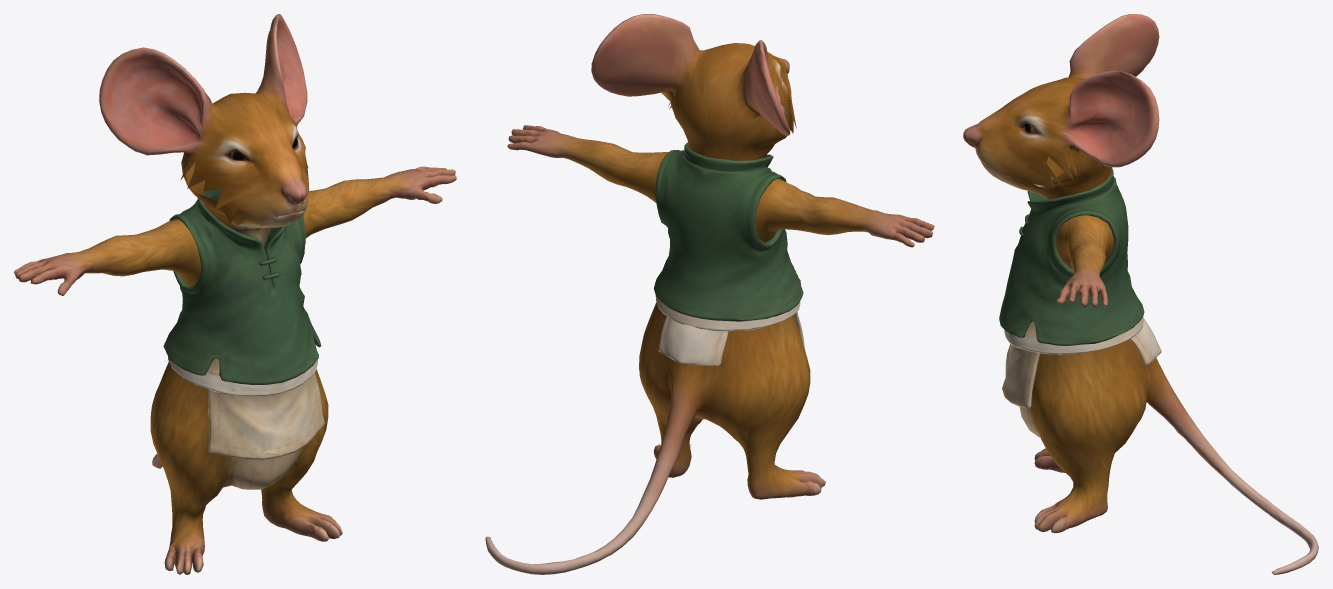
Rendered from source.glb.
3 renders of one model, left to right at view 1: azimuth 30°, elevation 25°; view 2: azimuth 150°, elevation 25°; view 3: azimuth 270°, elevation 25°, orthographic. The views are drawn at different scales.
Visible parts, largest first — view 1: geometry_0; view 2: geometry_0; view 3: geometry_0.
Boxes of the visible parts, x1=… form: geometry_0: x1=14, y1=14, x2=456, y2=574; geometry_0: x1=485, y1=14, x2=934, y2=574; geometry_0: x1=963, y1=14, x2=1318, y2=574.
Bounding box in the file's own units: 0.856 × 0.9512 × 0.6523.
1 material, 1 textured.
